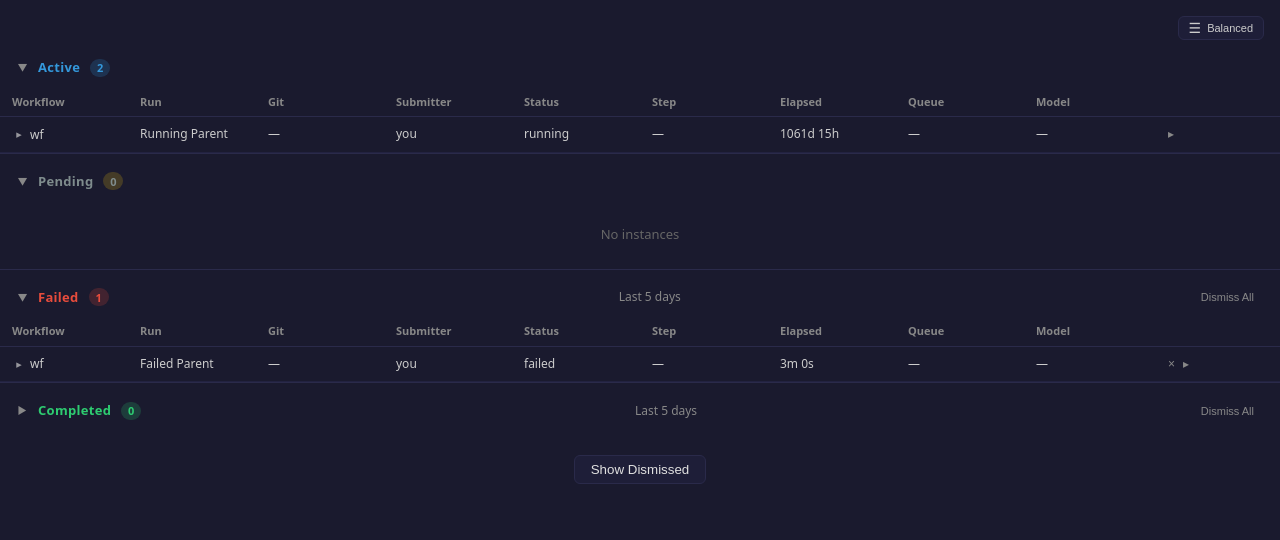
QueueView live patch of expanded children › patches a child present only in the hierarchy fetch, under a terminal parent
Later steps or results of the test are not shown.
Click the 3rd button "▸". click: (19, 364)
box: 12,358 -> 26,370
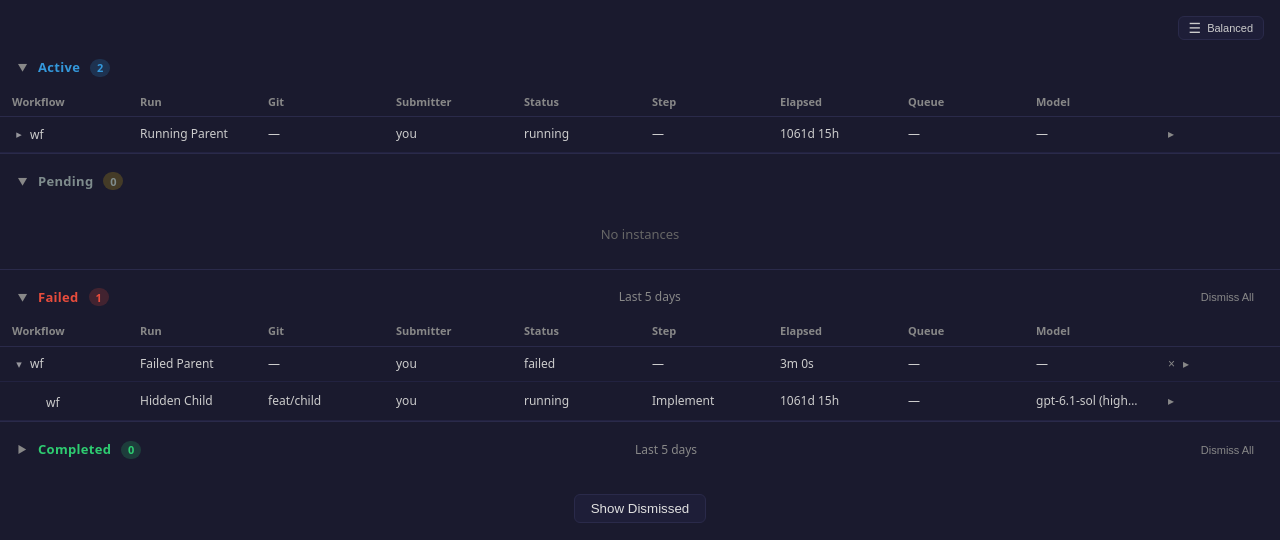
Expected: the text "Hidden Child" is shown, 128,382 -> 256,420
Expected: the cell "gpt-6.1-sol (high) · codex · litellm" is shown, 1024,382 -> 1152,420
Expected: the text "feat/child" is shown, 268,392 -> 321,410
